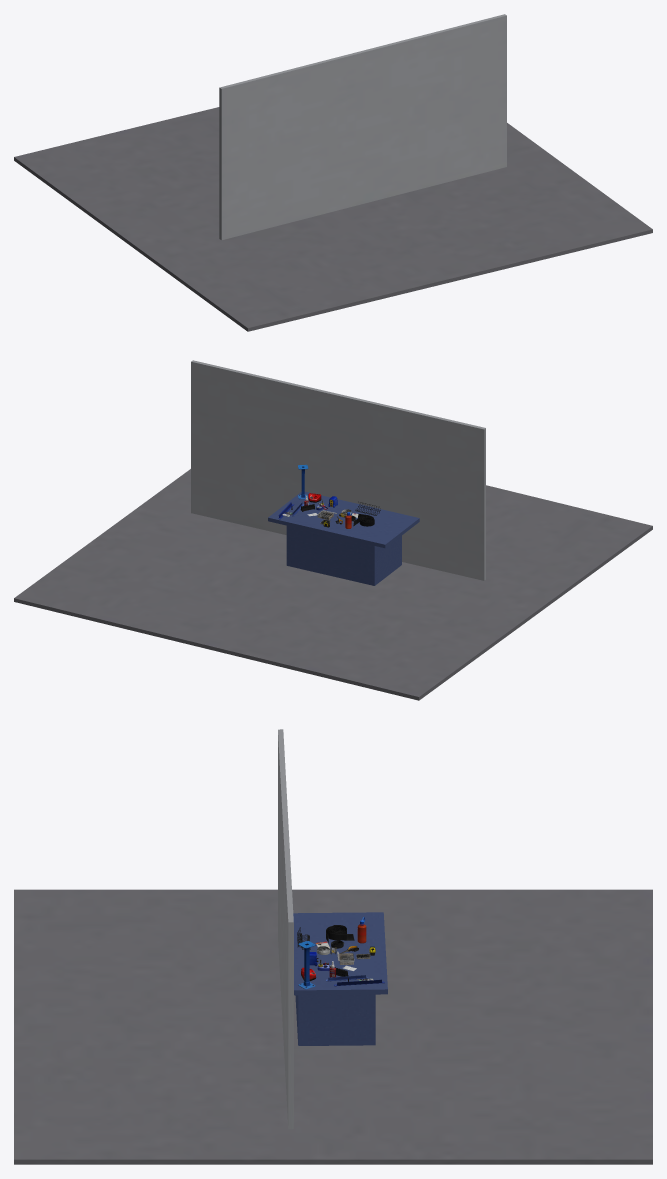
Rendered from ours.glb.
The picture shows the model from 3 angles, top to bottom: view 1: azimuth 30°, elevation 25°; view 2: azimuth 150°, elevation 25°; view 3: azimuth 270°, elevation 25°; orthographic projection. The views are drawn at different scales.
Parts seen in each view (by area): view 1: floor_0, wall_0; view 2: floor_0, wall_0, workbench_0; view 3: floor_0, workbench_0, wall_0.
Boxes of the visible parts, box(x1,y1,x2,y2) form: floor_0: box(14, 107, 652, 331); wall_0: box(219, 14, 506, 240); floor_0: box(14, 469, 652, 700); wall_0: box(191, 360, 485, 580); workbench_0: box(268, 491, 419, 585); floor_0: box(14, 889, 652, 1164); workbench_0: box(293, 912, 387, 1045); wall_0: box(278, 729, 293, 1129).
Bounding box in the file's own units: 7 × 2.56 × 7.
30 materials, 30 textured.
